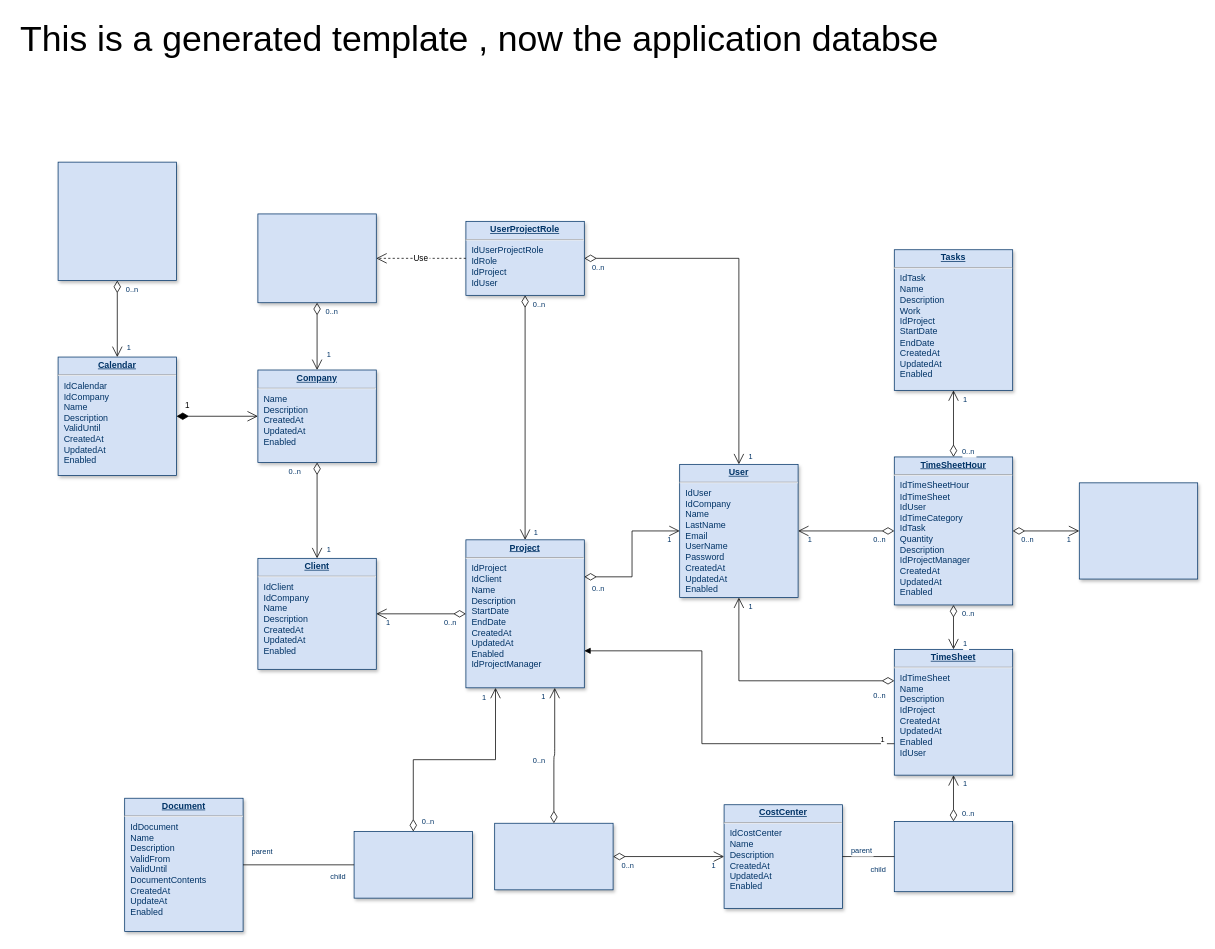
This 1215x949 diagram has some shape labels left out. Each missing label, with the centre of its shape:
"Holiday IdHoliday IdCalendar Name Description Date CreatedAt UpdatedAt Enabled" goes at point (117, 222).
"ProjectCostCenter IdProjectCostCenter IdProject IdCostCenter" goes at point (554, 857).
"ProjectDocument IdProjectDocument IdProject IdDocument" goes at point (413, 865).
"Role IdCompany Name Description CreatedAt UpdatedAt Enabled" goes at point (317, 259).
"TimeCategory IdTimeCategory Name Description CreatedAt UpdatedAt Enabled" goes at point (1139, 531).
"TimeSheetCostCenter IdTimeSheetCostCenter IdTimeSheet IdCostCenter" goes at point (954, 857).
